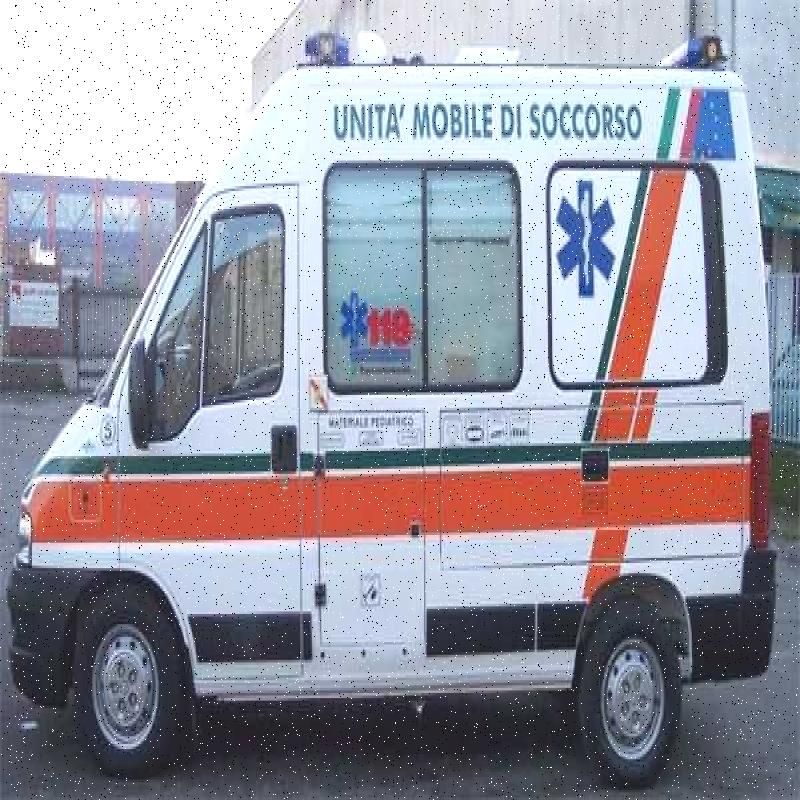AmbulanceSiren: (294, 26, 367, 71)
